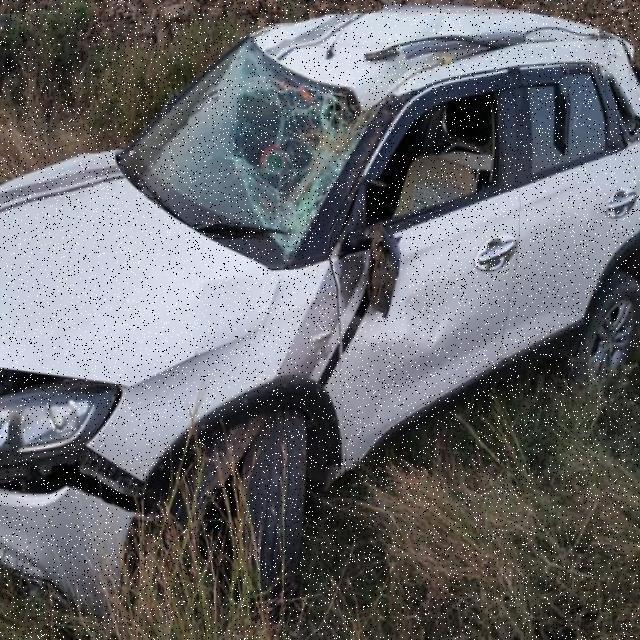Front-Windscreen-Damage: (121, 55, 369, 251)
Headlight-Damage: (0, 349, 133, 479)
doorouter-dent: (339, 193, 518, 460)
roof-dent: (267, 2, 639, 96)
